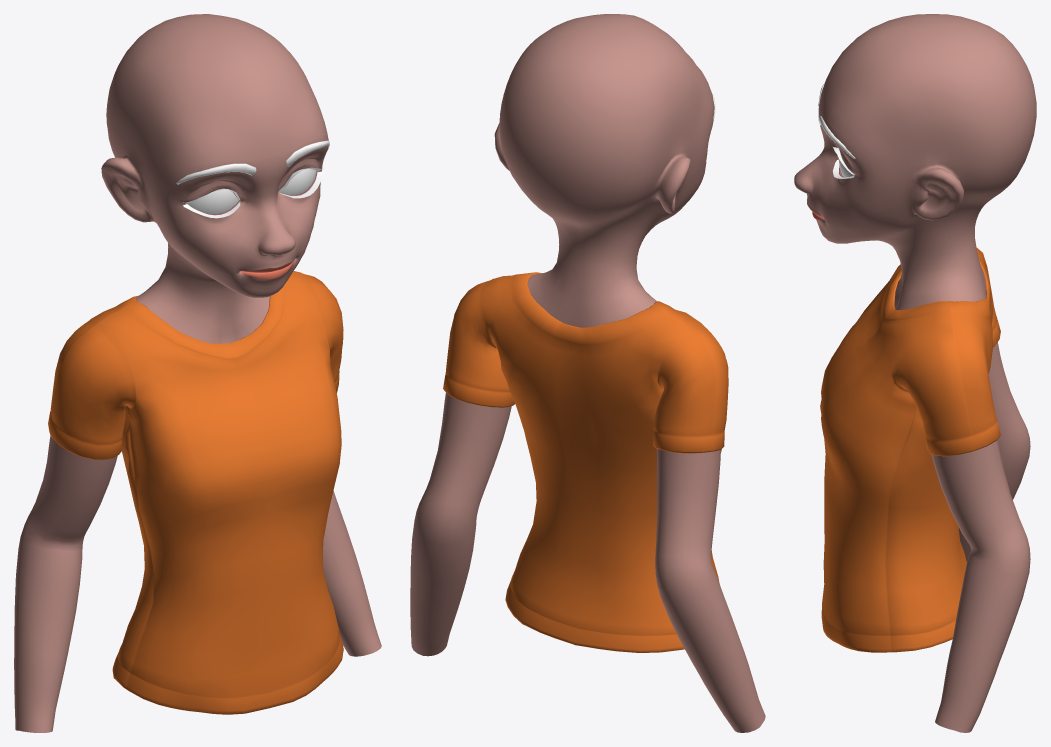
Rendered from ShapeKey Testing.glb.
The picture shows the model from 3 angles, left to right: view 1: azimuth 30°, elevation 25°; view 2: azimuth 150°, elevation 25°; view 3: azimuth 270°, elevation 25°; orthographic projection. The views are drawn at different scales.
Parts seen in each view (by area): view 1: PIXXO_CH_001, Eye.R; view 2: PIXXO_CH_001; view 3: PIXXO_CH_001.
Boxes of the visible parts, x1=… form: PIXXO_CH_001: x1=14, y1=14, x2=381, y2=732; Eye.R: x1=187, y1=189, x2=238, y2=214; PIXXO_CH_001: x1=410, y1=14, x2=765, y2=732; PIXXO_CH_001: x1=794, y1=14, x2=1036, y2=732.
Size of the model in its own units: 1.22 by 2.18 by 0.761.
